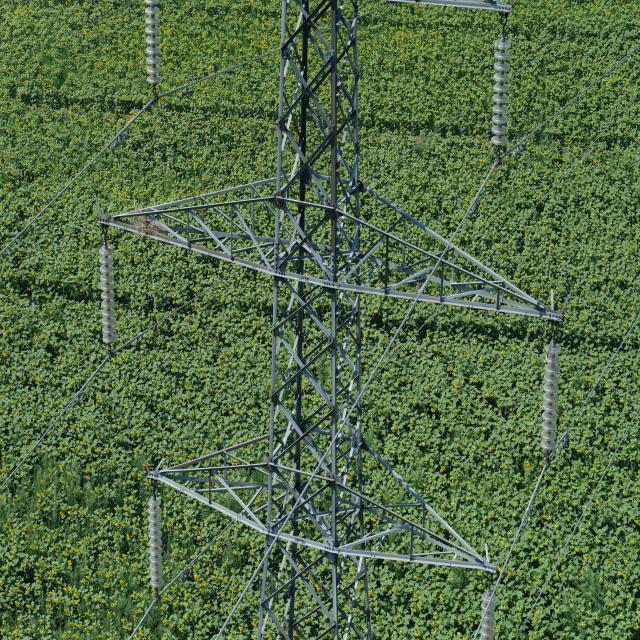direk: (251, 1, 376, 640)
